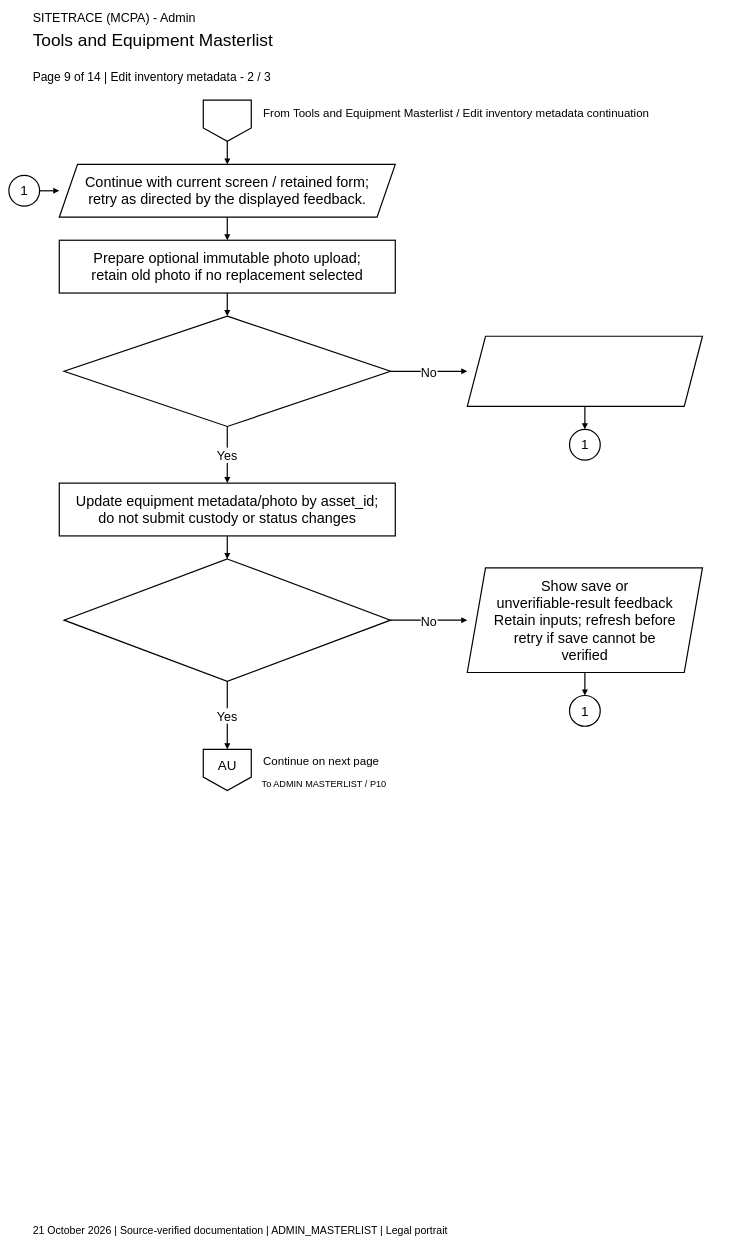
Image size: 747x1248. Some labels were removed from this diagram. The shapes that lost their labels are listed below. From the top down, each one's centre as x and y in pixels, then its label:
At pixel 227 120: "AT".
At pixel 227 371: "Optional photo upload ready?".
At pixel 584 371: "Show upload failure; keep form and old saved photo Retry upload".
At pixel 227 620: "Write succeeded and returned expected asset ID?".
